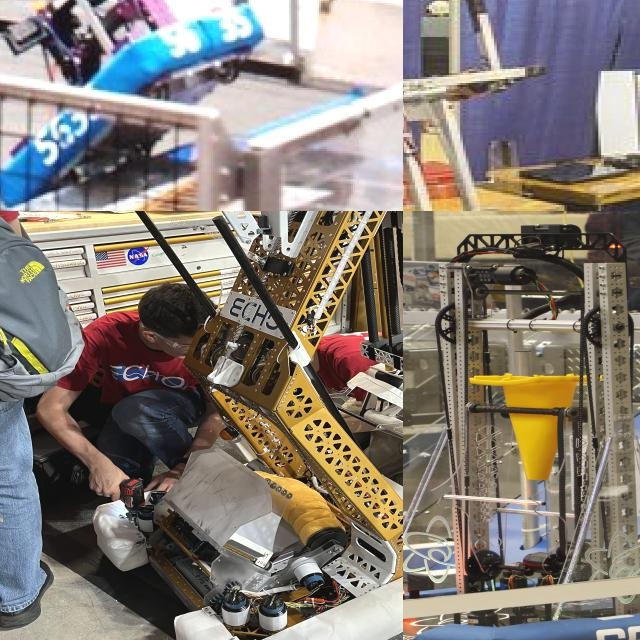FRC-Robots: (145, 211, 403, 640), (403, 239, 640, 640), (403, 0, 640, 211), (0, 0, 215, 130)
